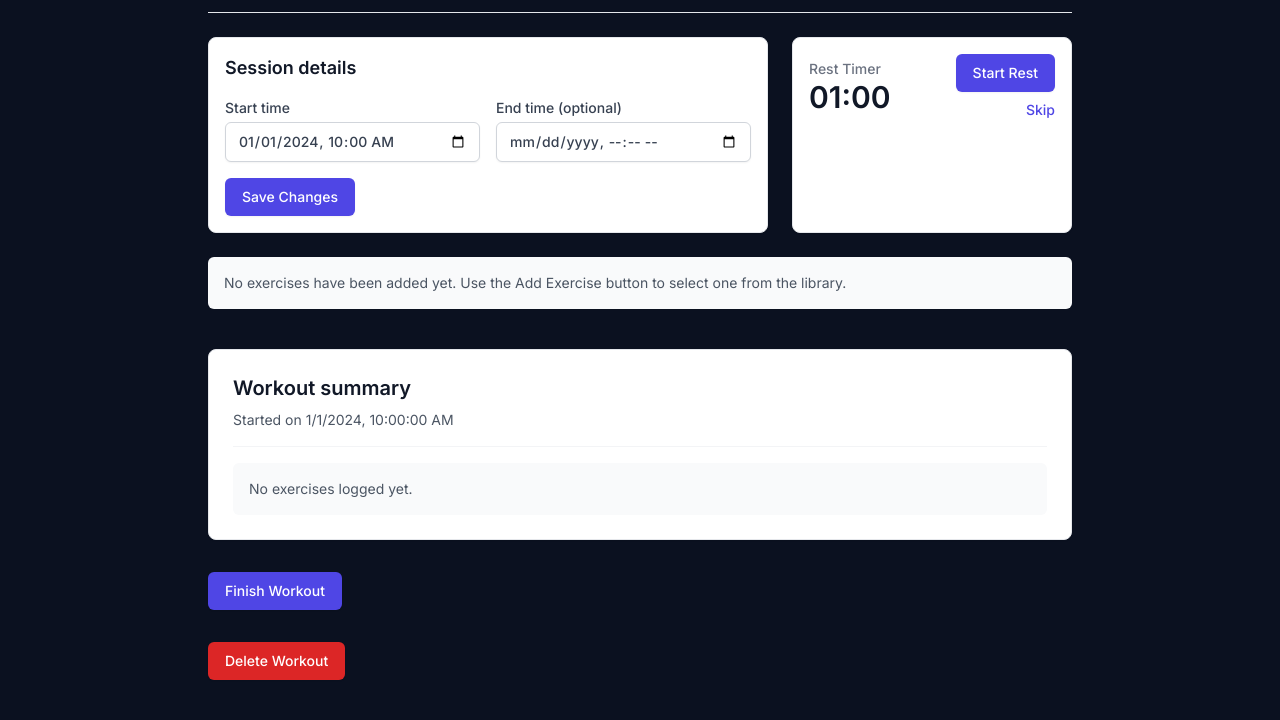
Scenario: WorkoutSessionPage › displays an error message when completion fails
(page scrolled)
Click the button "Finish Workout" at (275, 591), box [208,572,342,610]
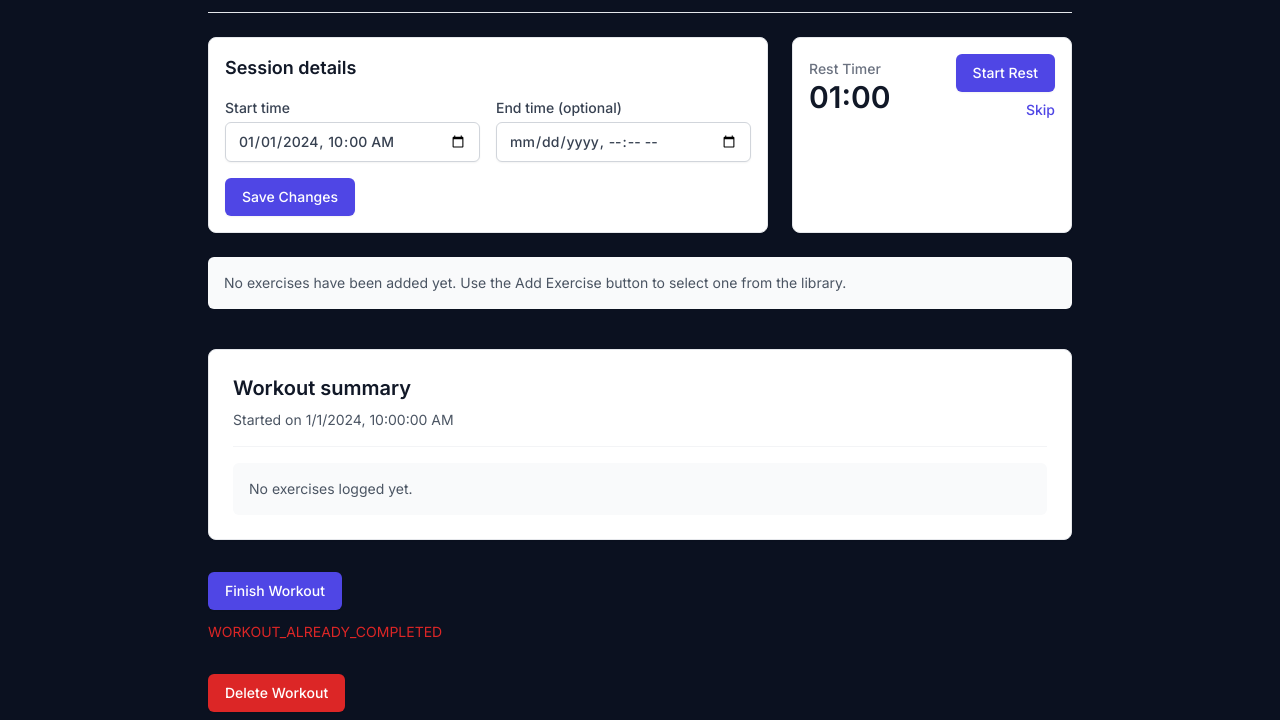
Check: the message reads "WORKOUT_ALREADY_COMPLETED", box [208,623,442,640]
